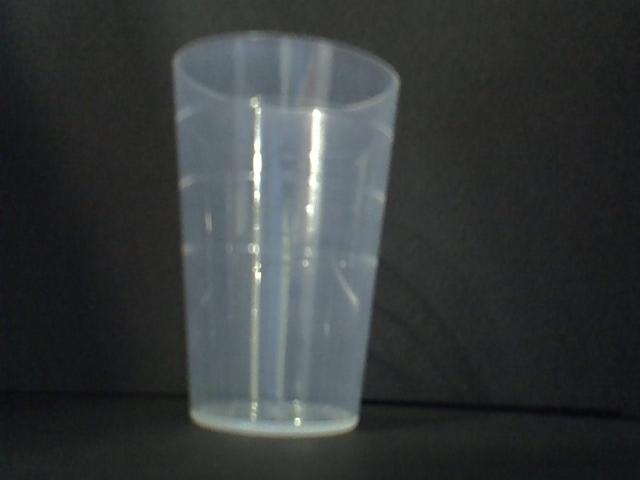cup: (168, 26, 403, 441)
